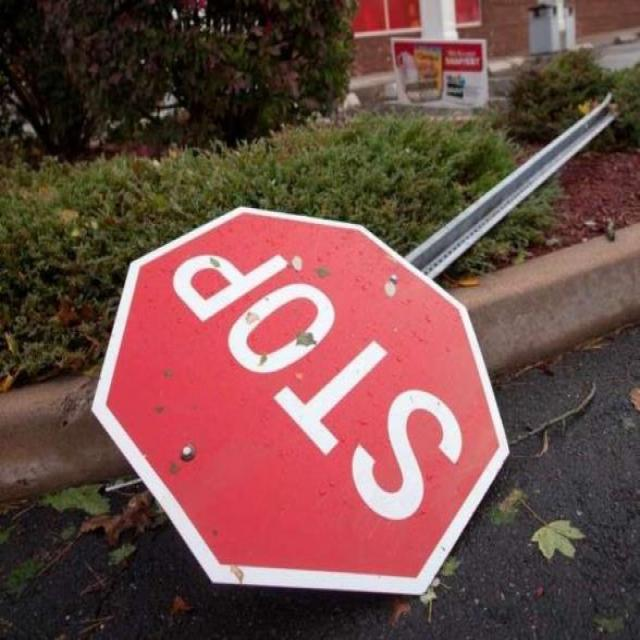stop-sign: (145, 190, 525, 596)
